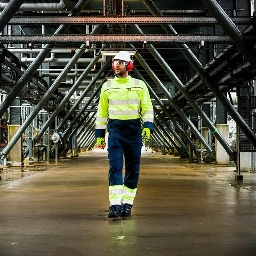helmet: (107, 50, 139, 72)
person: (86, 46, 157, 228)
vest: (95, 75, 155, 131)
